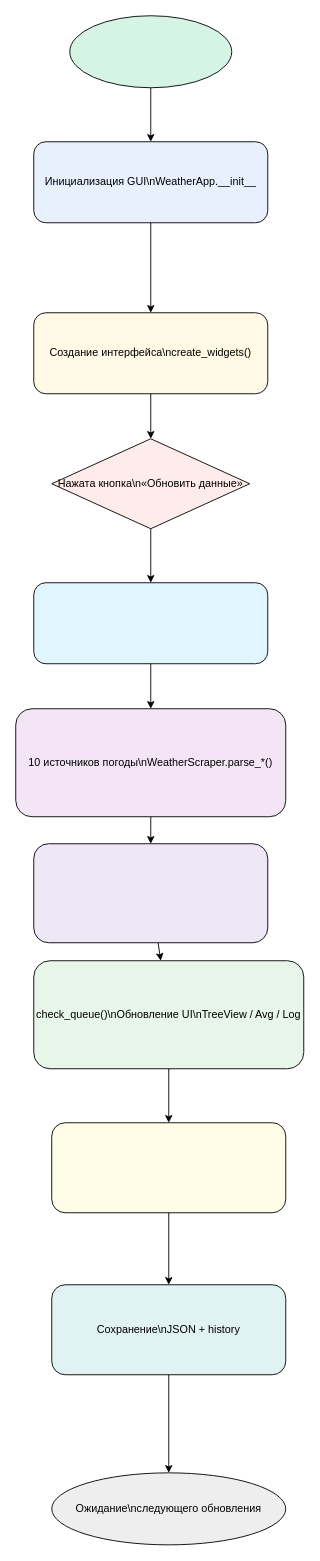
Some shapes in this 320 by 1561 pixel diagram are drawn without their labels. The shapes that lost their labels are listed below. From the top down, each one's centre as x and y in pixels, then its label:
[150,51]: Старт приложения\nmain()
[150,623]: Запуск потока\nget_weather_data()
[150,893]: Очередь Queue\nlog / data / avg / done
[168,1167]: calculate_averages()\nСредние значения
